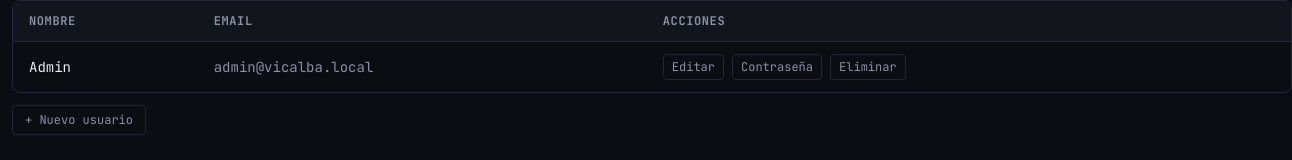
Scenario: GestionUsuarios — eliminar usuario › pide confirmación antes de eliminar
Click the button with aria-label "eliminar admin": (868, 67) [830,54,906,80]
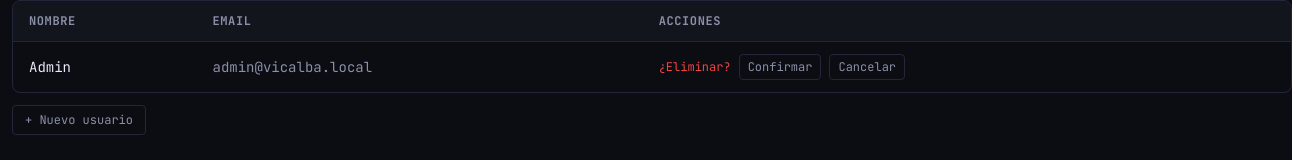
expect the text "¿Eliminar?" is shown: met, box [659,59,731,75]
expect the button "Confirmar" is shown: met, box [739,54,822,80]
